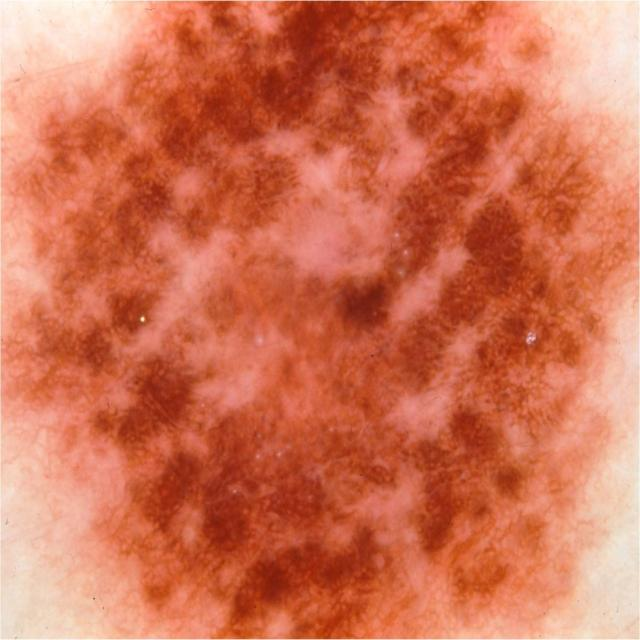Benign: (0, 4, 639, 638)
